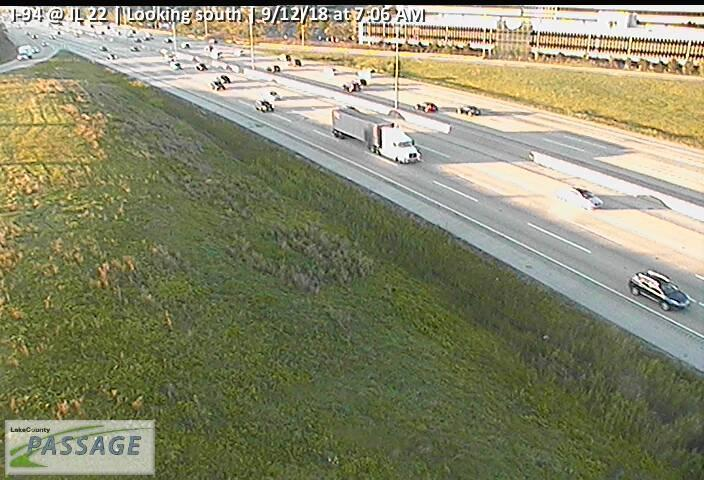SUV: (629, 269, 690, 312)
Sedan: (556, 186, 604, 210), (458, 103, 480, 115), (255, 99, 273, 112), (416, 102, 437, 112)
Truck: (331, 106, 420, 165)
